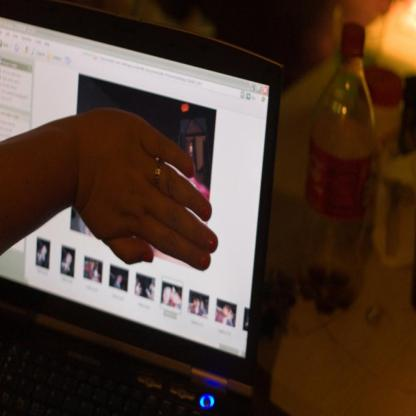board: (0, 26, 281, 411), (300, 24, 376, 312)
